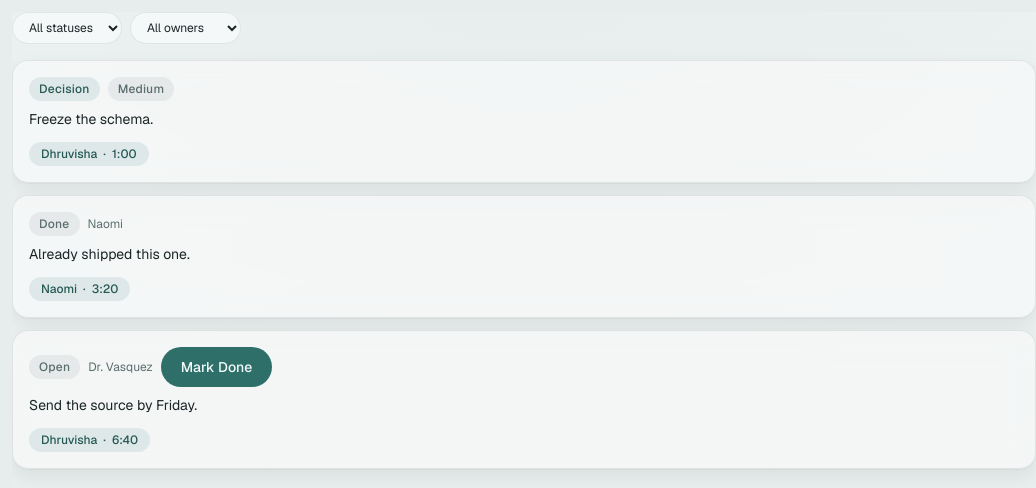
Test: MeetingTimeline › filters action items by status while keeping decisions visible
Expected: the text "Freeze the schema." is shown, [29,110,153,128]
Select "Done" in the dropdown named "Filter action items by status" at (67,28), box [12,12,122,44]
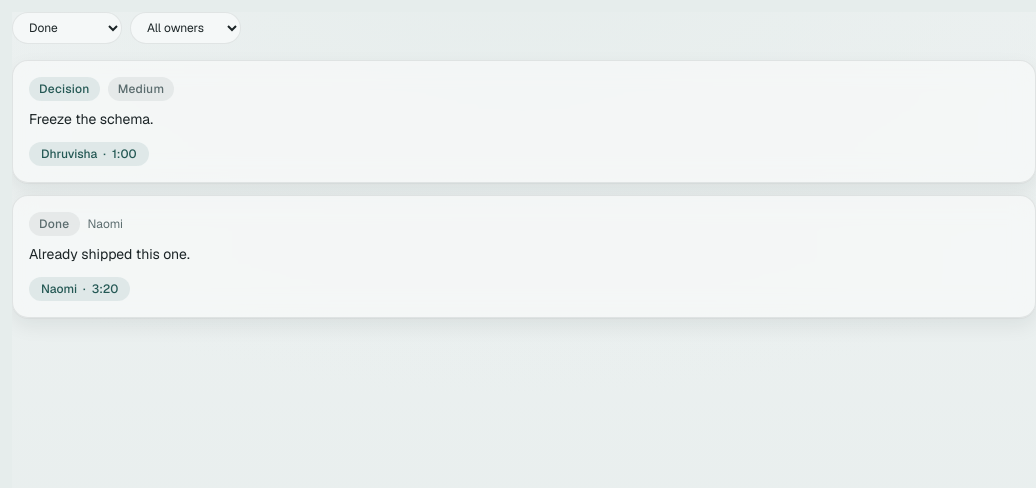
Expected: the text "Freeze the schema." is shown, [29,110,153,128]
Now the text "Send the source by Friday." is gone
